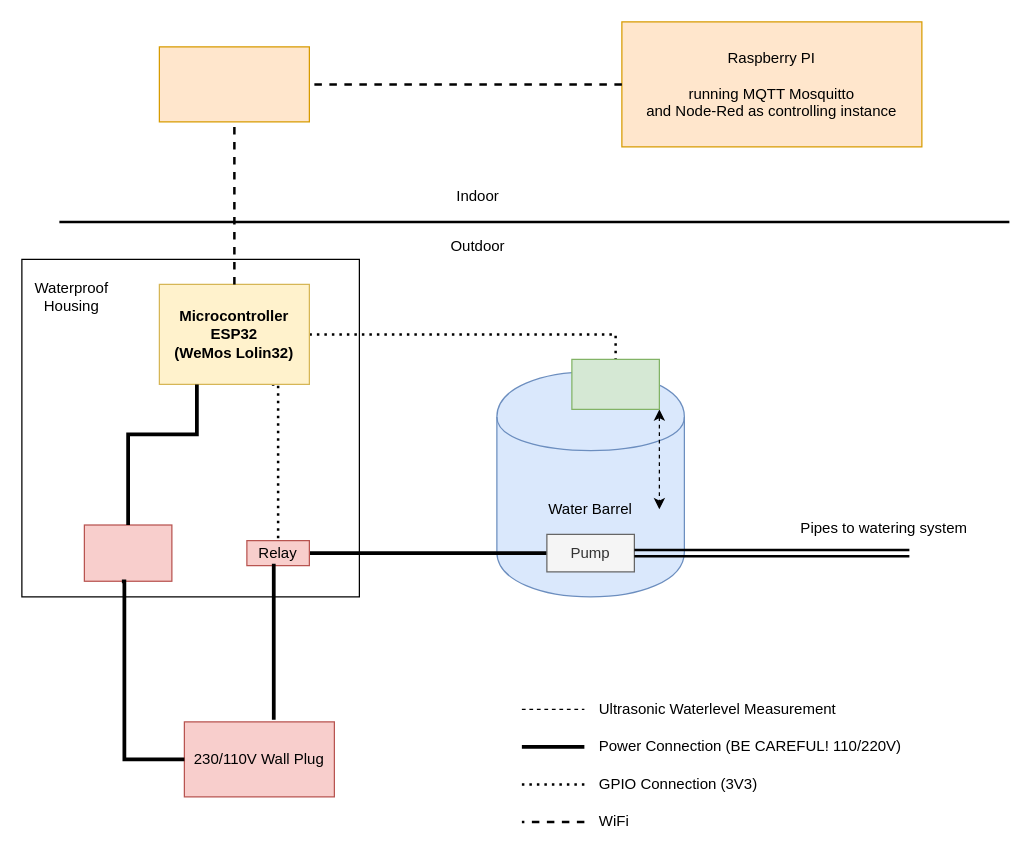
Some shapes in this 1034 by 856 pixel diagram are drawn without their labels. The shapes that lost their labels are listed below. From the top down, each one's centre as x and y in pixels, then its label:
At (233,84): "WiFi Router".
At (615,383): "Ultrasonic Sensor".
At (127,552): "220V to 5V converter".
